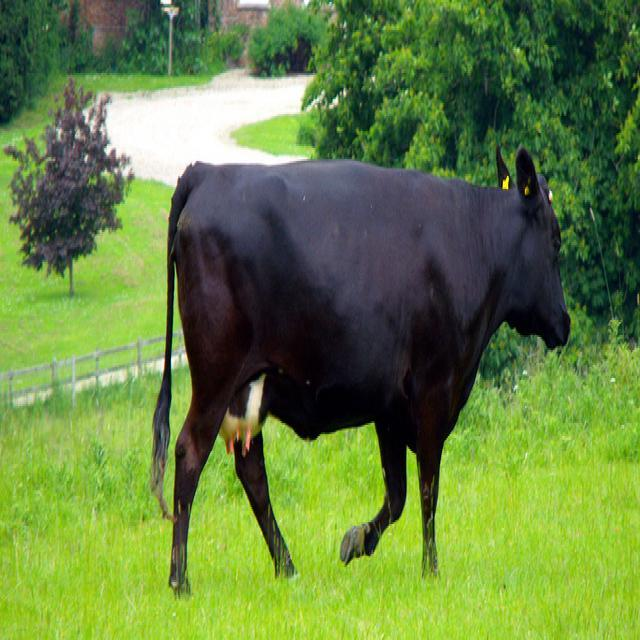cow: (138, 129, 577, 603)
